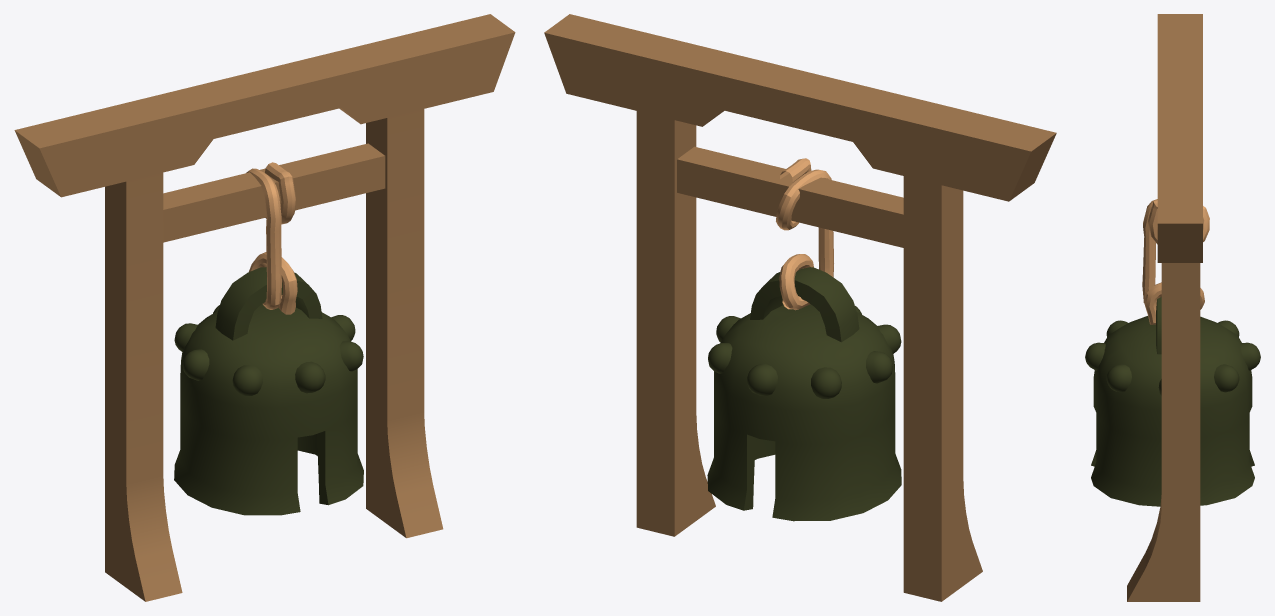
The model's file is cc0-bell-lod0.glb.
3 renders of one model, left to right at view 1: azimuth 30°, elevation 25°; view 2: azimuth 150°, elevation 25°; view 3: azimuth 270°, elevation 25°, orthographic. The views are drawn at different scales.
Visible parts, largest first — view 1: part_0; view 2: part_0; view 3: part_0.
Boxes of the visible parts, x1,y1,x2,y2 form: part_0: [14, 14, 515, 601]; part_0: [544, 14, 1056, 601]; part_0: [1085, 14, 1260, 601].
Size of the model in its own units: 3.92 by 3.64 by 1.39.
1 material, 1 textured.
